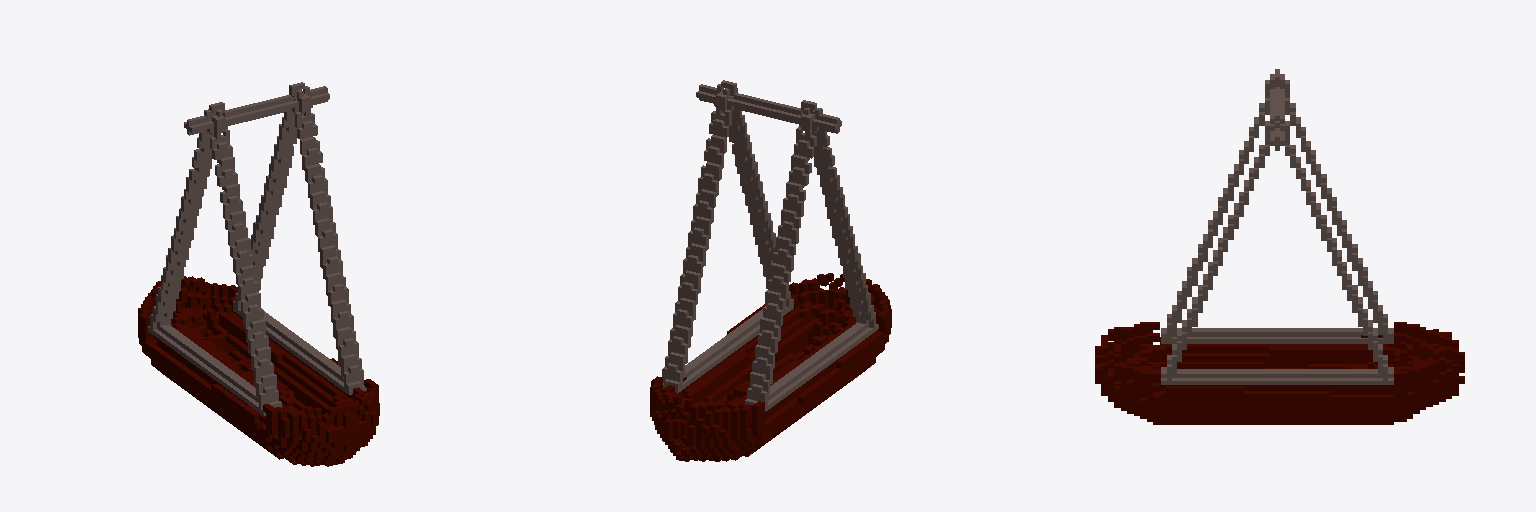
Rendered from barco.obj.
3 views of the same model, side by side, from view 1: azimuth 30°, elevation 25°; view 2: azimuth 150°, elevation 25°; view 3: azimuth 270°, elevation 25° (orthographic).
Visible parts, largest first — view 1: Torus.002, Sphere_Sphere.001; view 2: Torus.002, Sphere_Sphere.001; view 3: Sphere_Sphere.001, Torus.002.
Part boxes in pixels (x1,y1,x2,y2): Torus.002: (148,82,366,415); Sphere_Sphere.001: (138,276,379,466); Torus.002: (662,80,878,411); Sphere_Sphere.001: (650,273,891,461); Sphere_Sphere.001: (1095,322,1464,424); Torus.002: (1161,69,1393,384).
Bounding box in the file's own units: 6.2 × 13.89 × 14.36.